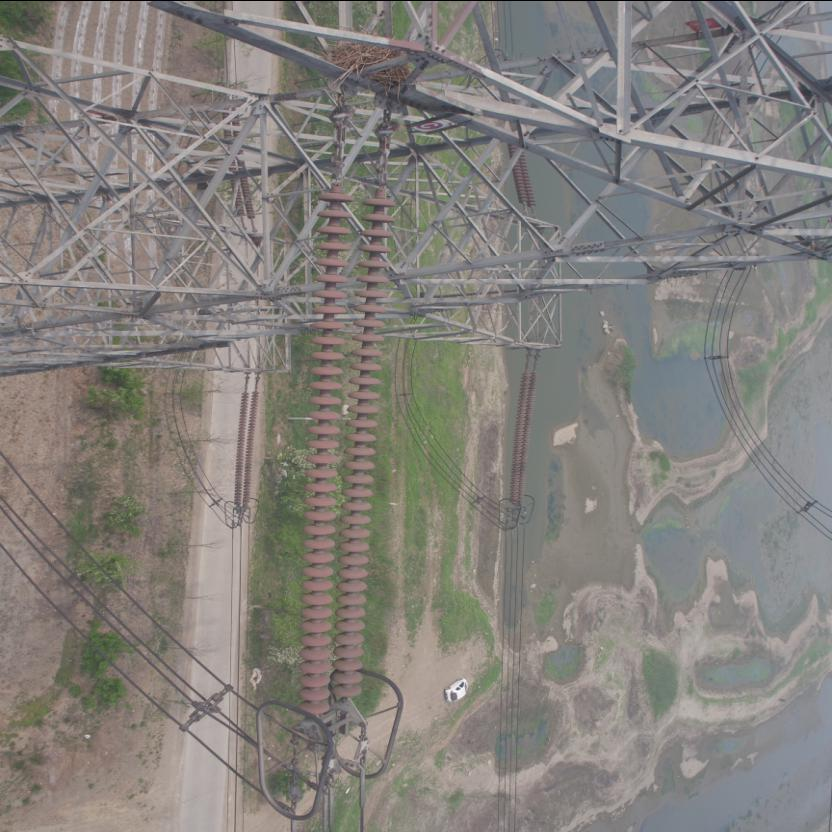insulator: (294, 143, 398, 723), (509, 362, 541, 504), (233, 382, 263, 506)
